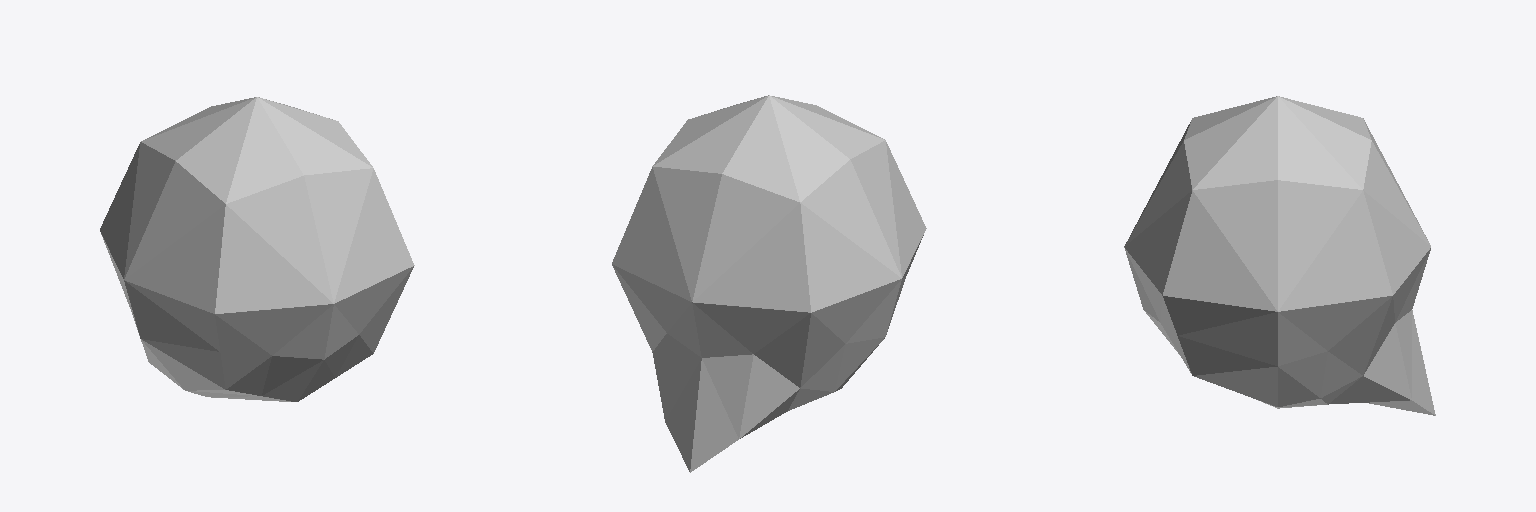
The model's file is Ghost.obj.
The picture shows the model from 3 angles: view 1: azimuth 30°, elevation 25°; view 2: azimuth 150°, elevation 25°; view 3: azimuth 270°, elevation 25°; orthographic projection.
Visible parts, largest first — view 1: Ghost; view 2: Ghost; view 3: Ghost.
Part boxes in pixels (x1,y1,x2,y2): Ghost: (100,97,414,401); Ghost: (612,95,926,472); Ghost: (1124,96,1435,415).
Size of the model in its own units: 1.63 by 1.87 by 1.65.